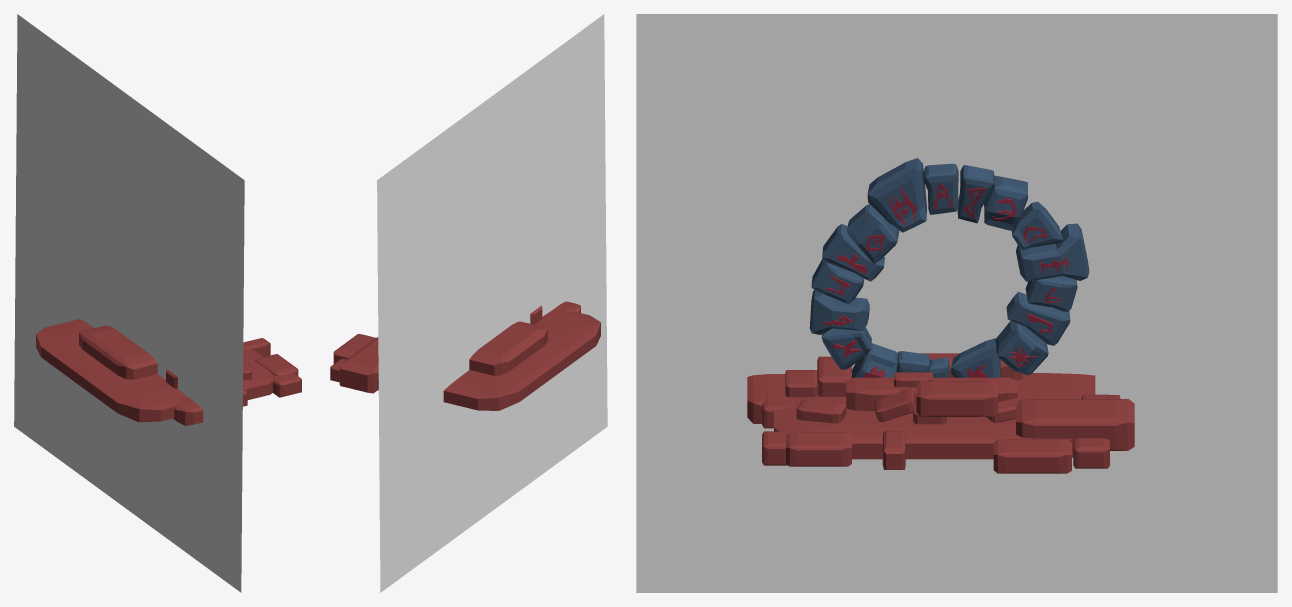
Rendered from Portal.glb.
3 renders of one model, left to right at view 1: azimuth 30°, elevation 25°; view 2: azimuth 150°, elevation 25°; view 3: azimuth 270°, elevation 25°, orthographic. The views are drawn at different scales.
Visible parts, largest first — view 1: Plane.001, Cube.032; view 2: Plane.001, Cube.032; view 3: Plane.001, Cube.032, Cube.020, Plane, Cube.001.
Boxes of the visible parts, x1=… form: Plane.001: x1=14, y1=14, x2=244, y2=592; Cube.032: x1=36, y1=319, x2=301, y2=425; Plane.001: x1=377, y1=14, x2=607, y2=592; Cube.032: x1=330, y1=301, x2=600, y2=410; Plane.001: x1=636, y1=14, x2=1277, y2=592; Cube.032: x1=747, y1=353, x2=1134, y2=473; Cube.020: x1=809, y1=158, x2=1089, y2=378; Plane: x1=917, y1=274, x2=978, y2=330; Cube.001: x1=824, y1=182, x2=1068, y2=377.
Size of the model in its own units: 2.08 by 4.59 by 4.59.
